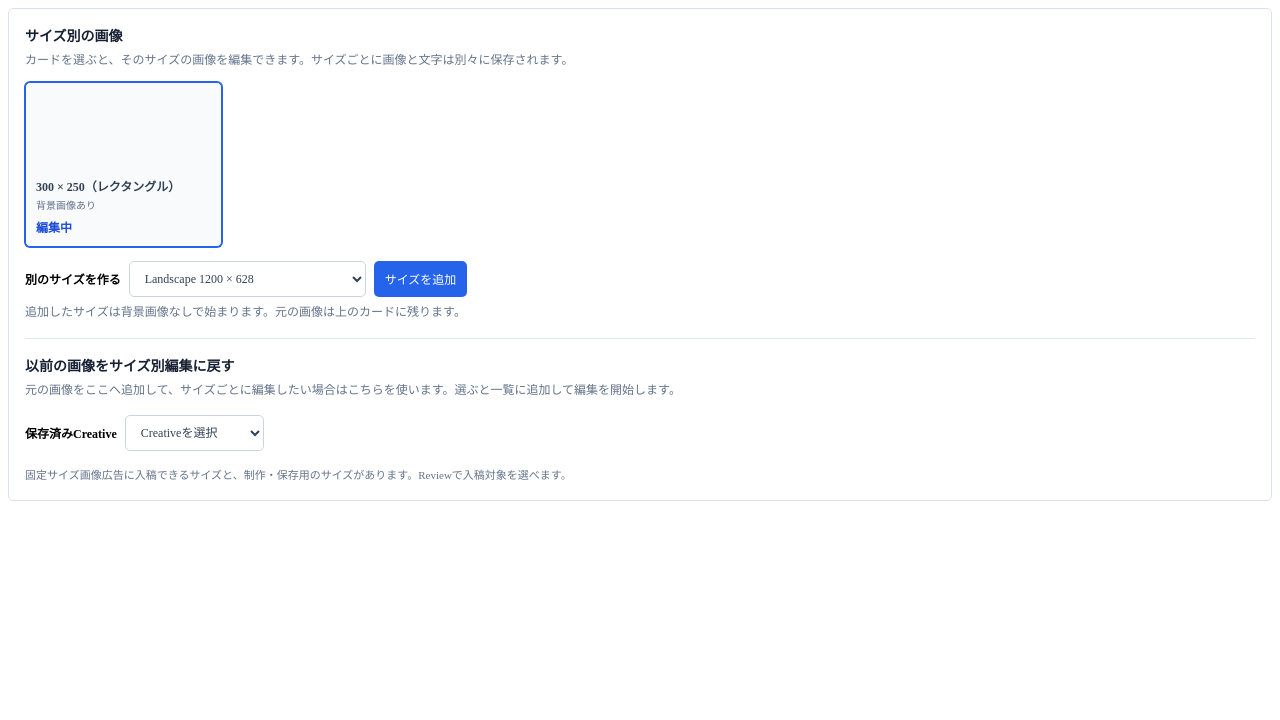
Test: imports a saved studio image without changing its source record
The width and height of the screenshot is (1280, 720).
Select "元画像 · 300 × 250" in the dropdown labelled "保存済みCreative" at (194,433), box [125,415,264,451]
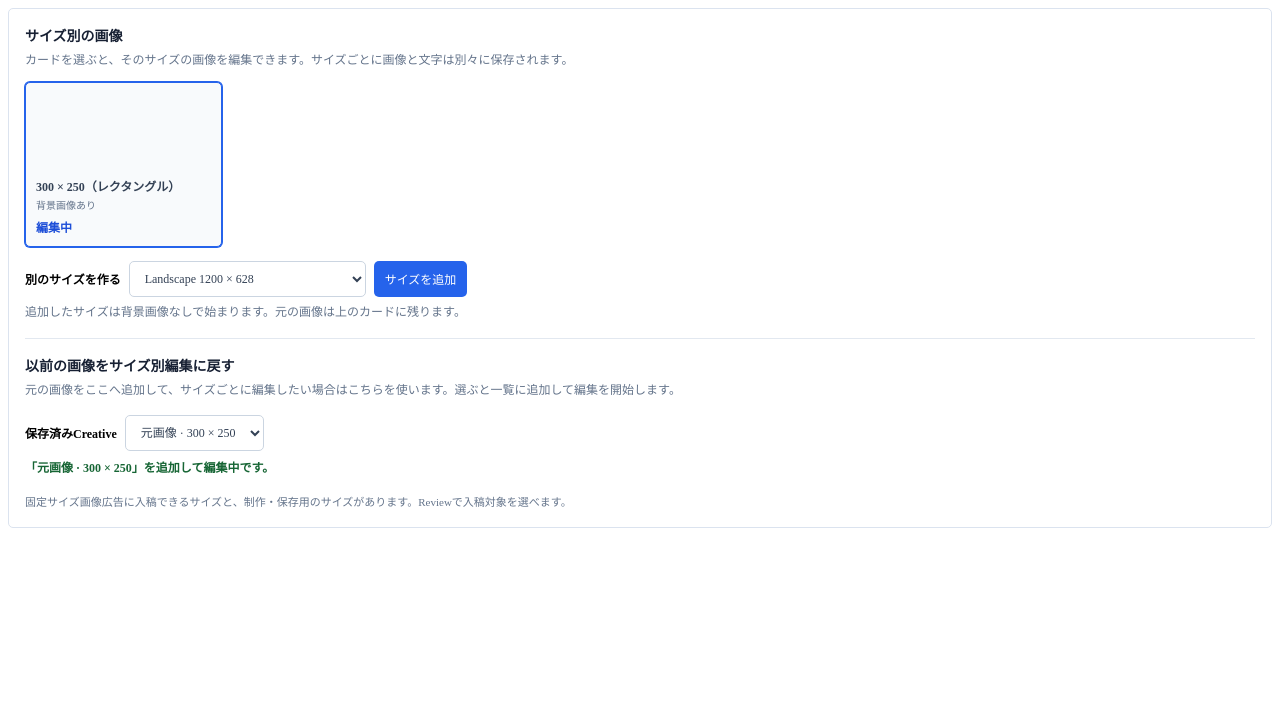
Result: the message shows "追加して編集中です" at [25,461,274,475]
